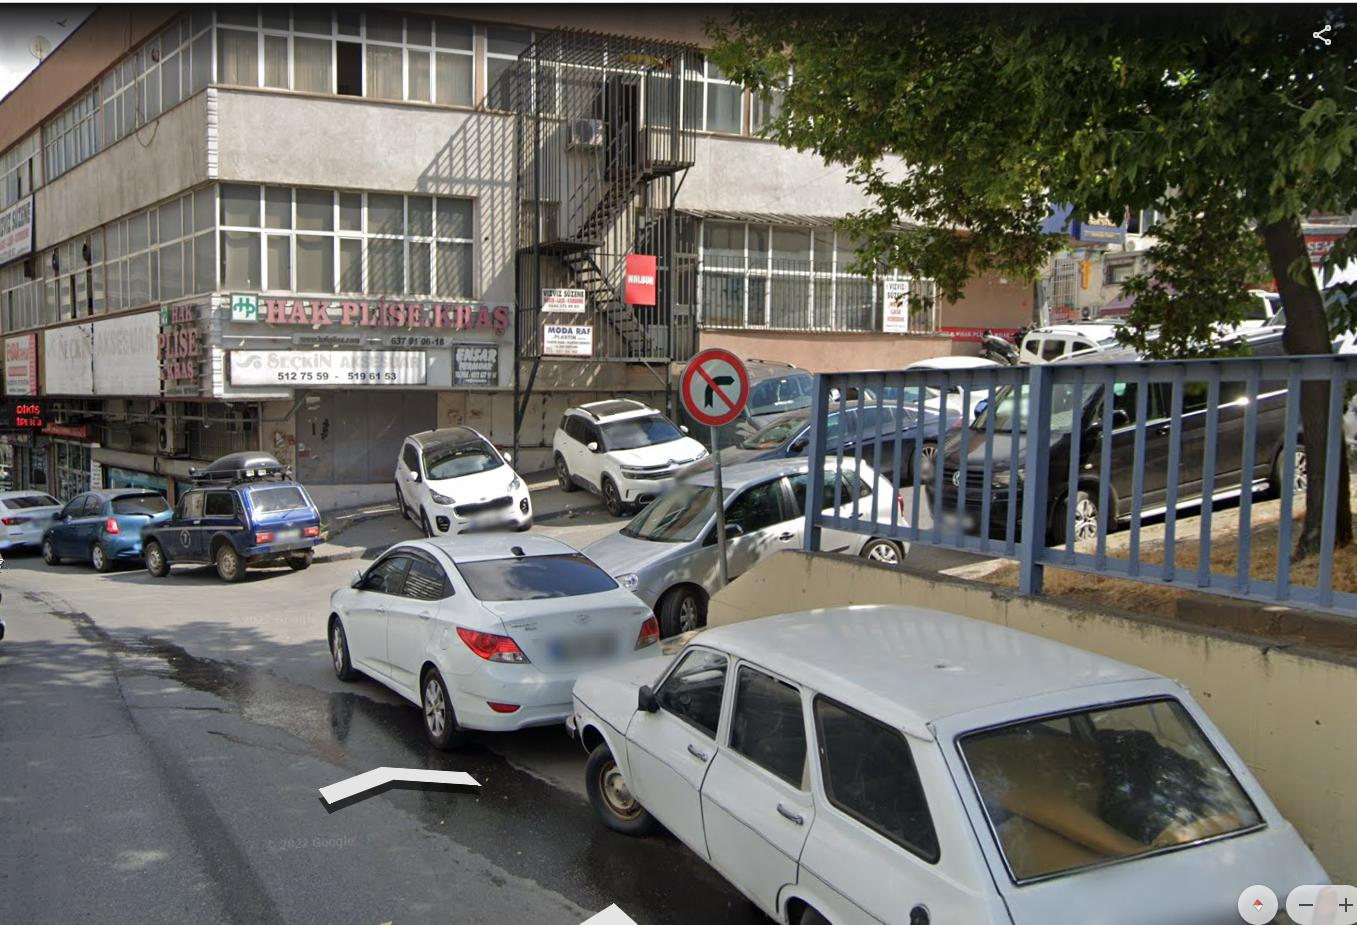rightturnsareforbidden: (683, 345, 752, 428)
